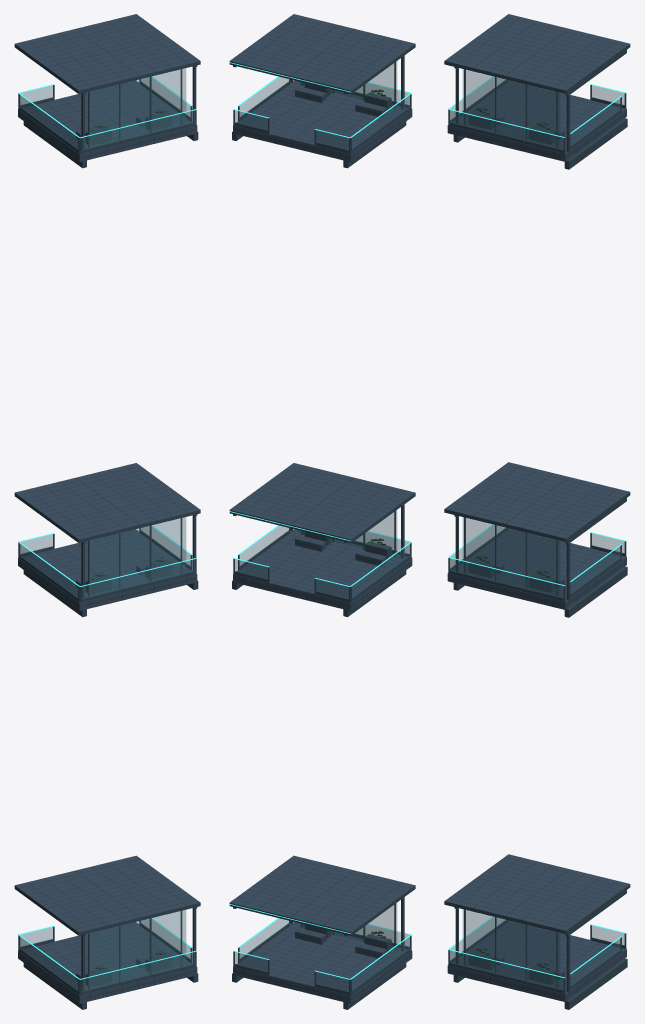
The model's file is loggia-rooms-uv2.glb.
The picture shows the model from 3 angles, left to right: view 1: azimuth 30°, elevation 25°; view 2: azimuth 150°, elevation 25°; view 3: azimuth 330°, elevation 25°; orthographic projection.
Parts seen in each view (by area): view 1: loggia-rooms; view 2: loggia-rooms; view 3: loggia-rooms.
Boxes of the visible parts, x1,y1,x2,y2 form: loggia-rooms: (14,14,200,1009); loggia-rooms: (229,14,415,1009); loggia-rooms: (444,14,630,1009).
Bounding box in the file's own units: 9.12 × 65.8 × 8.34.
7 materials, 1 textured.
